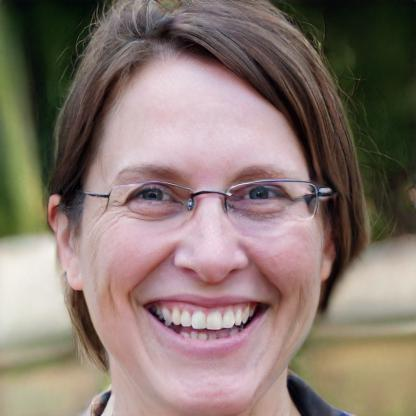glasses: (90, 172, 328, 231)
